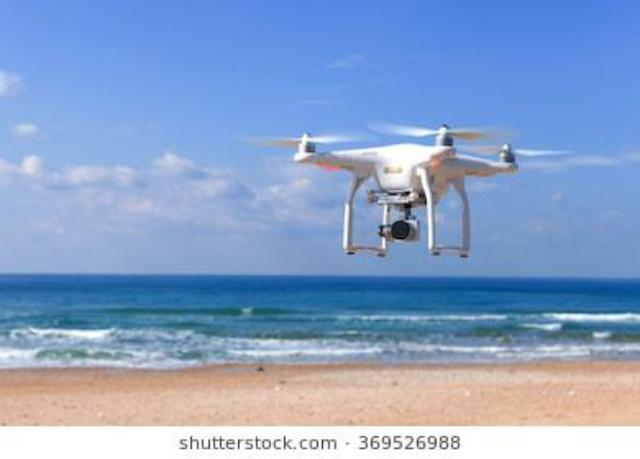drone: (261, 66, 544, 288)
